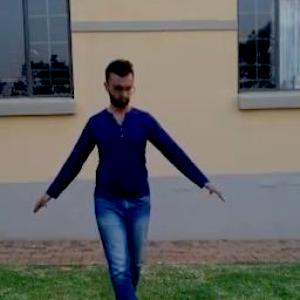land: (38, 35, 228, 299)
